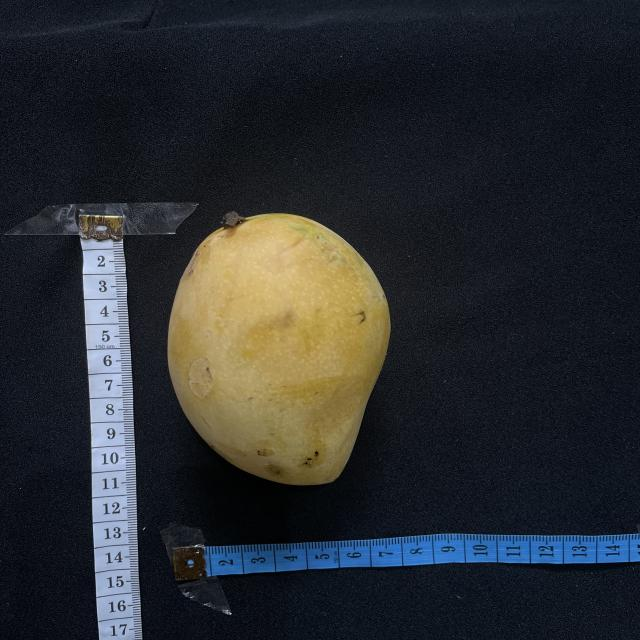Ripe: (168, 213, 390, 485)
